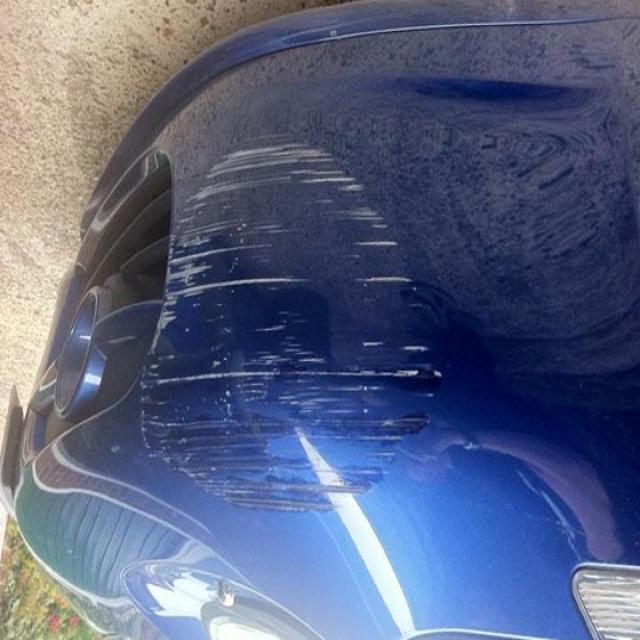scratch: (130, 110, 432, 498)
